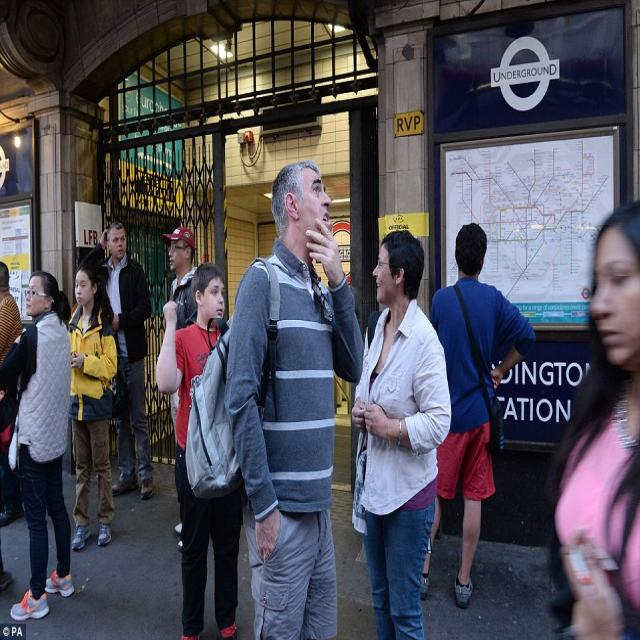body: (220, 157, 367, 639), (418, 221, 539, 609), (348, 225, 453, 639), (543, 199, 639, 639), (154, 260, 246, 639), (0, 266, 77, 622), (73, 217, 158, 501), (64, 259, 118, 552), (162, 227, 200, 555), (0, 259, 25, 365), (0, 521, 15, 595)
